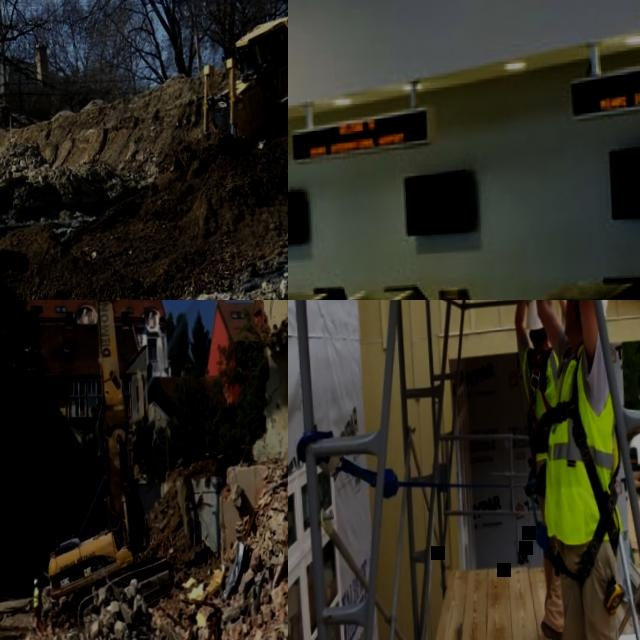Hardhat: (567, 300, 612, 324), (525, 300, 546, 331), (34, 578, 40, 587)
NO-Mask: (563, 300, 579, 337)
Person: (526, 300, 636, 640), (509, 300, 586, 640), (263, 35, 288, 70), (33, 578, 45, 631)
Safety Vest: (536, 340, 623, 548), (522, 341, 566, 461), (34, 587, 42, 608)
machinery: (22, 300, 288, 617), (197, 14, 288, 153)
